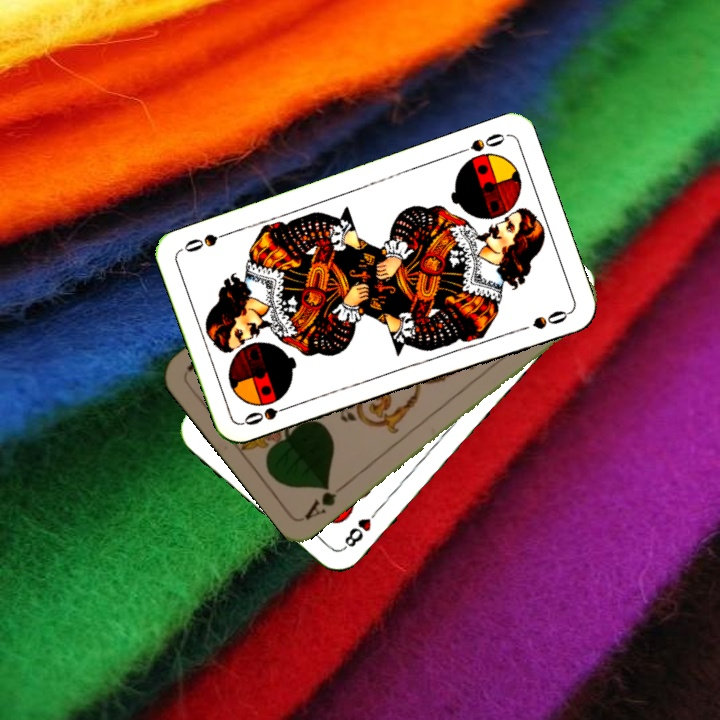GA: (300, 478, 350, 523)
H8: (339, 503, 383, 553)
SO: (240, 400, 297, 428), (452, 129, 509, 157)
